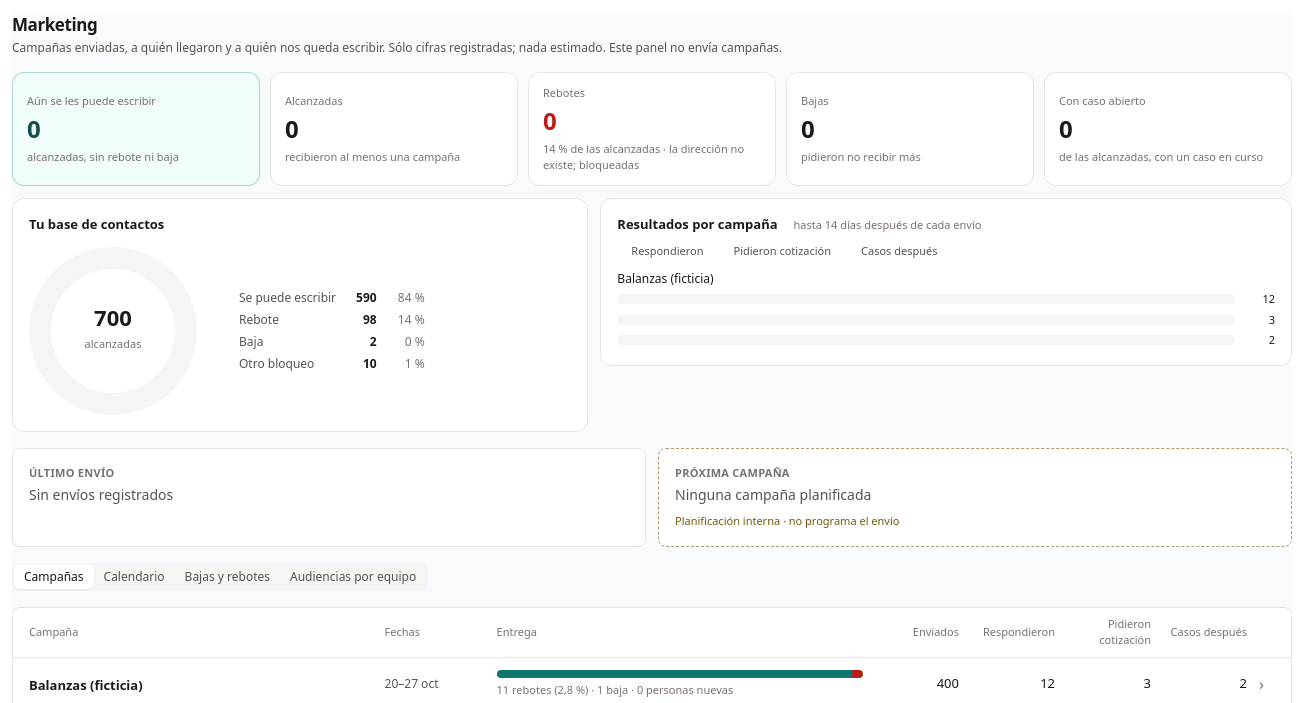
Test: Marketing analytics › a KPI opens the people it counts
This screenshot has width=1304, height=703.
Click the button with test id "kpi-with_open_case": (1168, 129) left=1044, top=72, right=1292, bottom=186
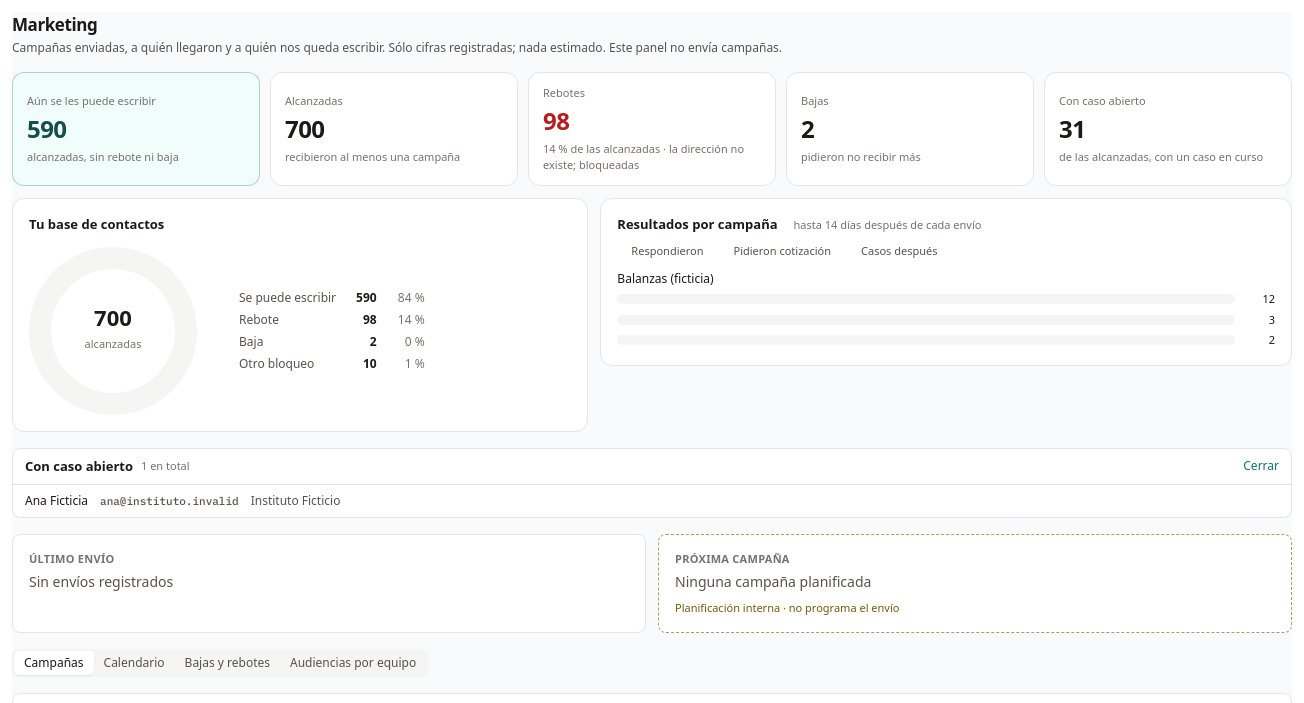
Expected: the list with test id "people-list" shows "Ana Ficticia", left=25, top=492, right=88, bottom=509
